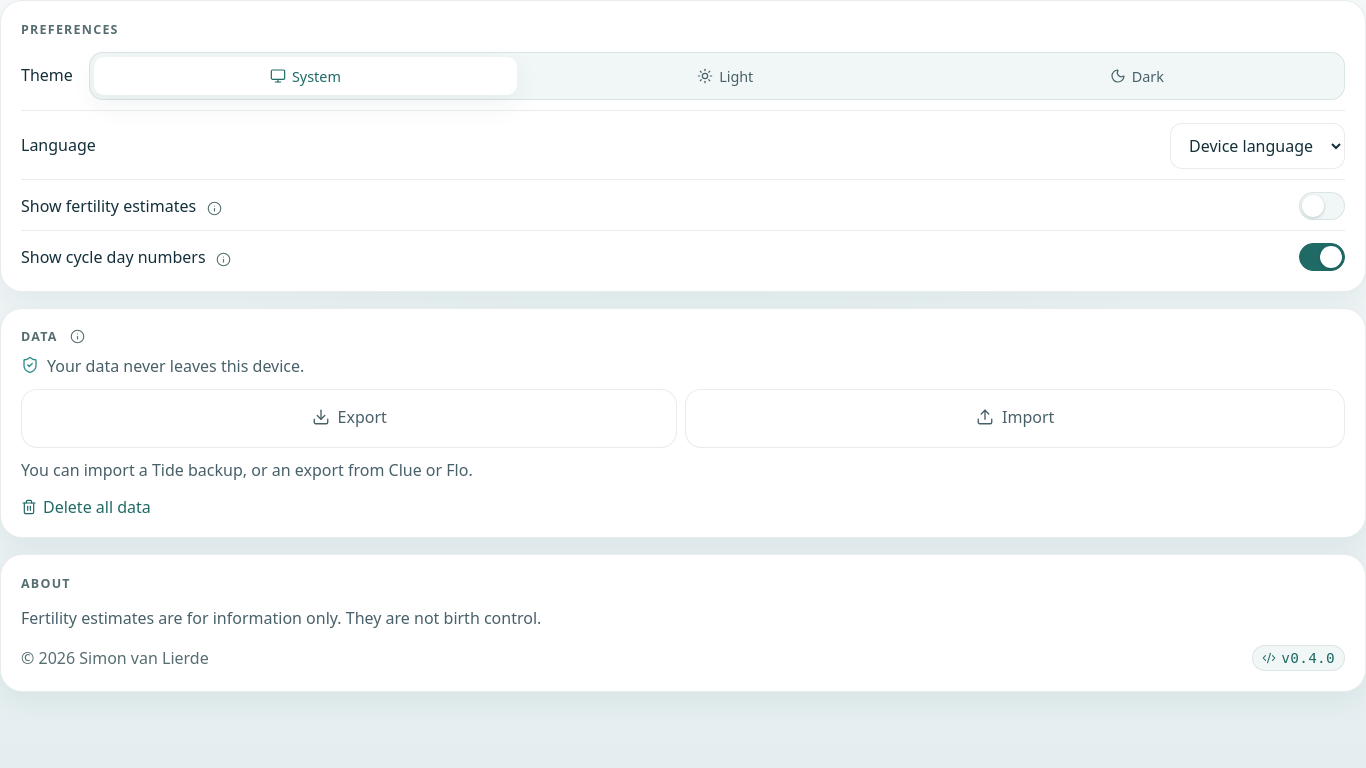
Test case: SettingsScreen › confirms an export instead of letting the download happen in silence
Click the button "Export": click(349, 418) [21,389,678,448]
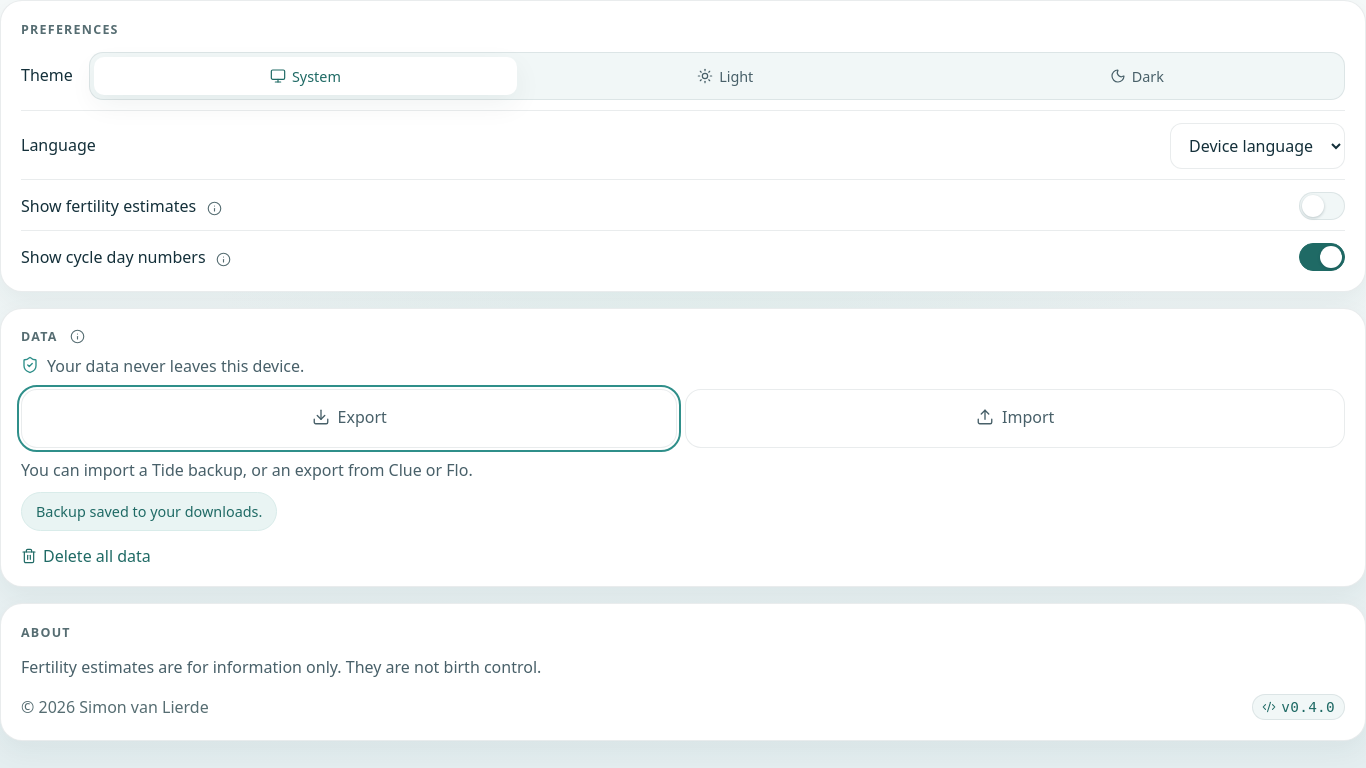
Expected: the message shows "Backup saved", [36,502,262,521]
